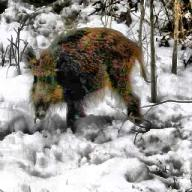boar: (23, 26, 148, 132)
